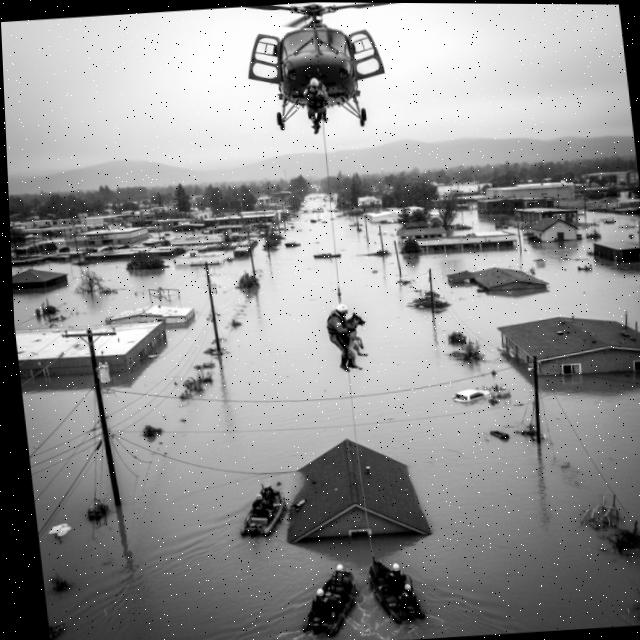dog: (341, 306, 373, 371)
rescuer: (322, 299, 362, 376), (293, 72, 339, 137), (324, 561, 352, 600), (309, 585, 338, 622), (384, 559, 407, 597), (398, 579, 417, 613), (247, 493, 270, 521), (260, 485, 279, 508)
